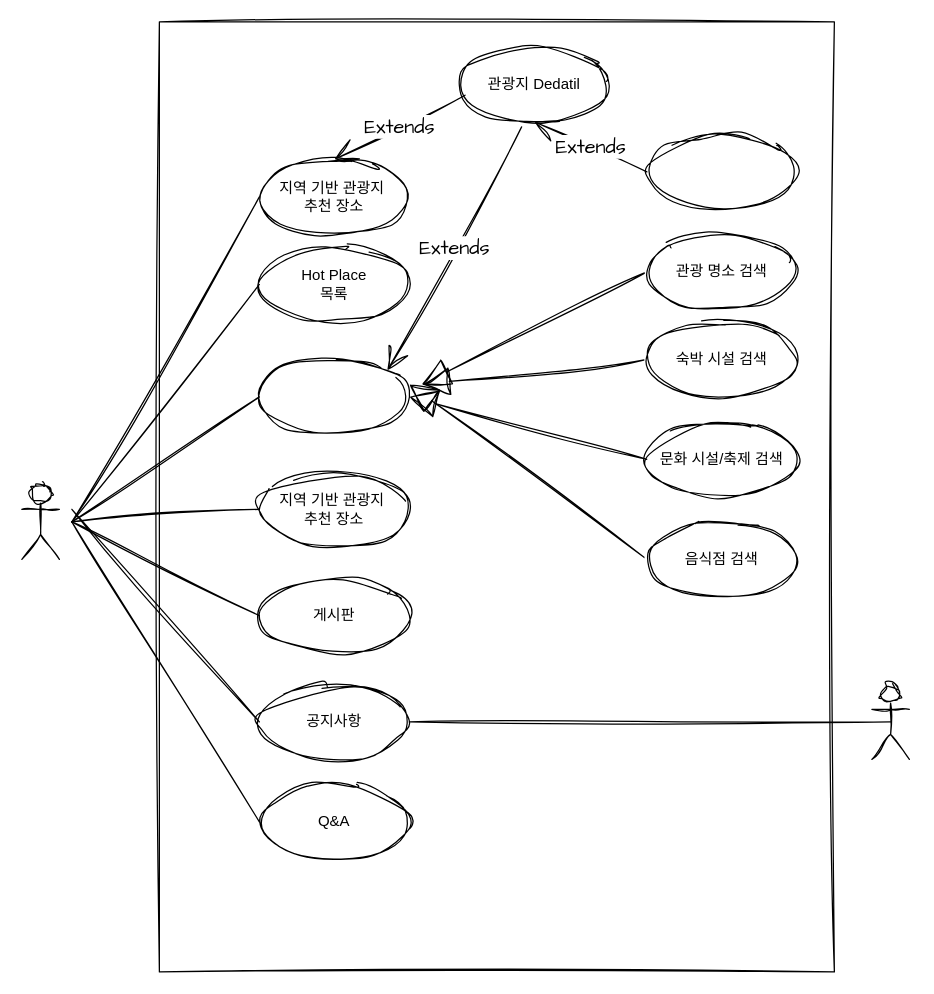
Image size: 934x994. Some labels were removed from this diagram. Each missing label, with the box of its shape:
Admin: (871, 683, 909, 759)
Hot Place 등록: (646, 133, 797, 209)
User: (21, 483, 59, 559)
지역 관광지 목록: (258, 358, 409, 434)
